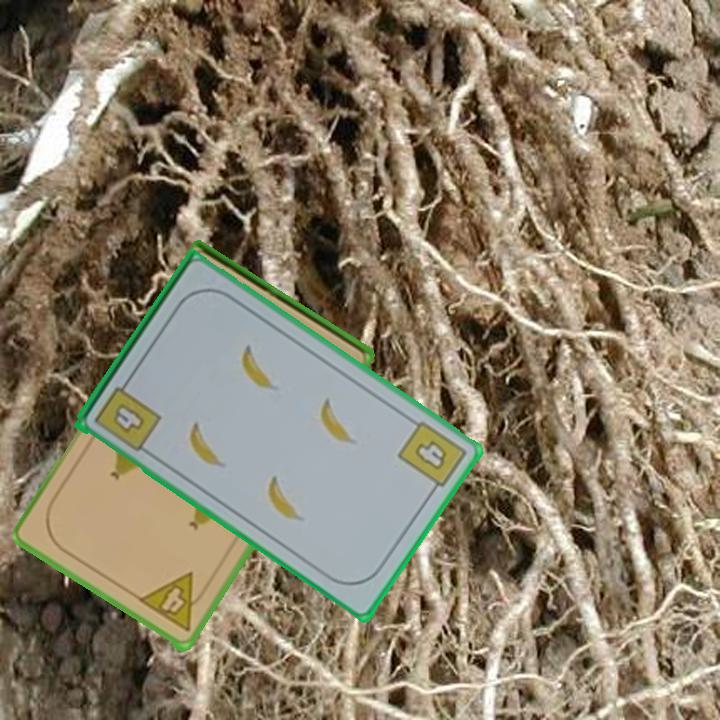4b: (394, 417, 470, 499), (91, 374, 165, 455)
4p: (134, 569, 213, 635)
